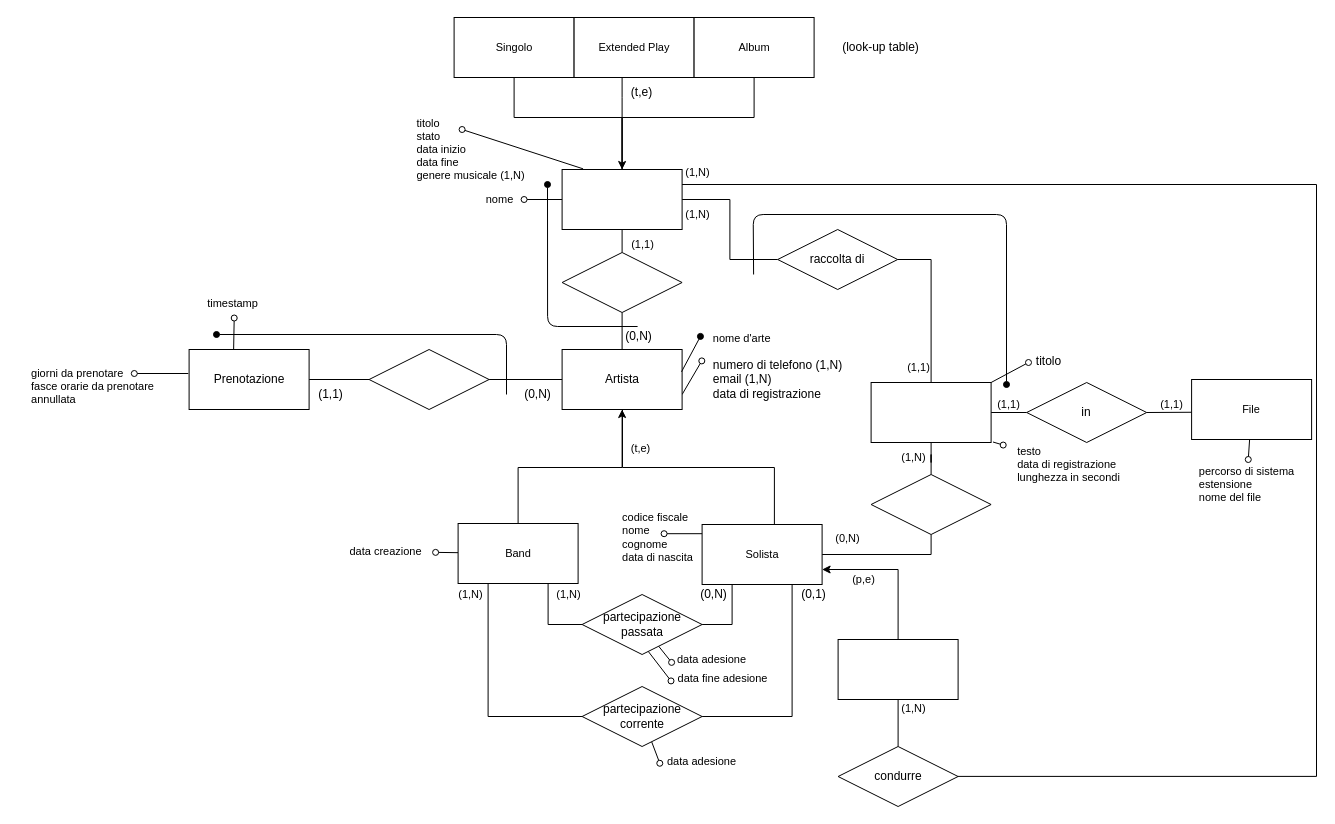
Some shapes in this 1335 by 824 pixel diagram are drawn without their labels. Here are the shapes that lost their labels. From the top down, the box of each, then its label:
(561, 168, 682, 230): Produzione
(561, 252, 682, 312): composizione
(368, 348, 489, 410): effettuazione
(870, 382, 991, 442): Canzone
(870, 474, 991, 534): partecipazione
(837, 638, 958, 700): Produttore
